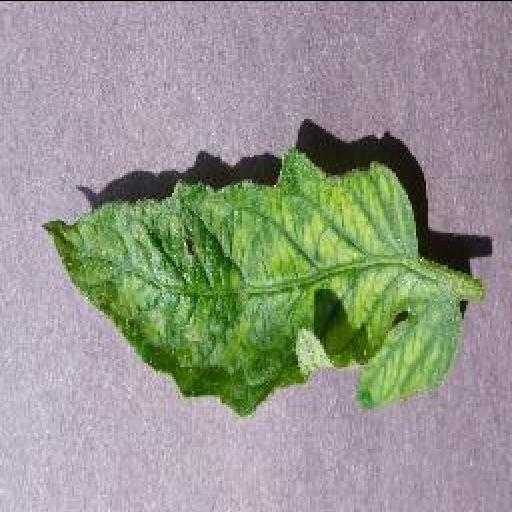Mosaic Virus: (42, 146, 460, 418)
